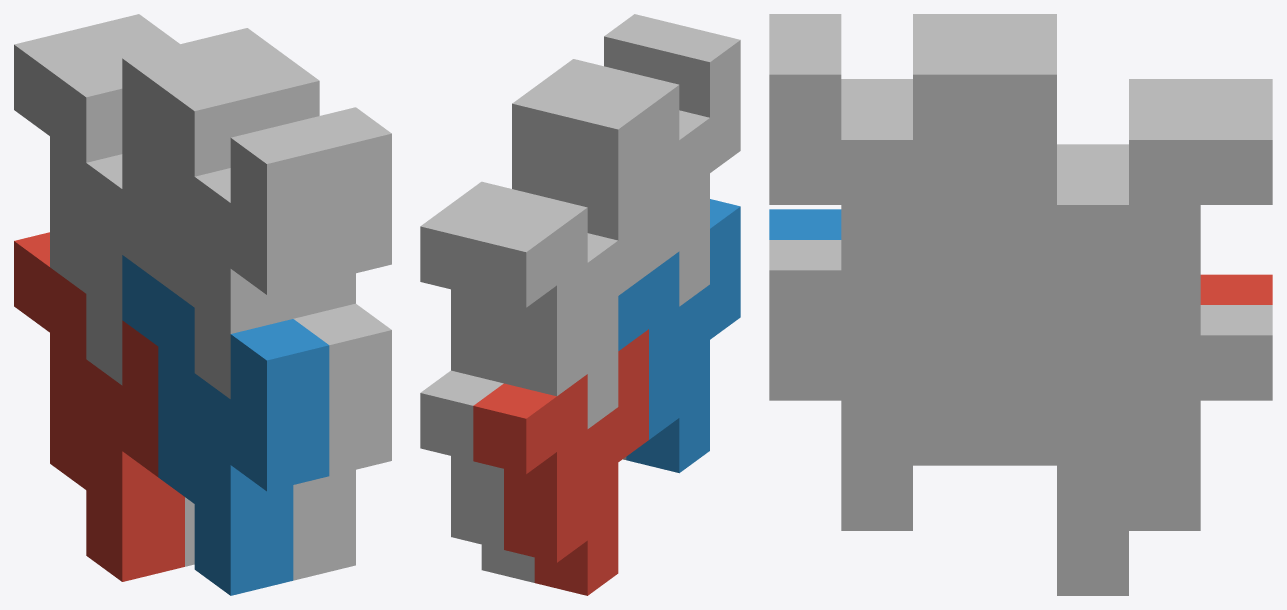
The model's file is tiling.obj.
3 views of the same model, side by side, from view 1: azimuth 30°, elevation 25°; view 2: azimuth 150°, elevation 25°; view 3: azimuth 270°, elevation 25° (orthographic). The views are drawn at different scales.
Parts seen in each view (by area): view 1: copy_1_domain_4, copy_1_domain_2, copy_1_domain_3, copy_1_domain_1, copy_1_domain_8, copy_1_domain_6, copy_1_domain_7, copy_1_domain_5; view 2: copy_1_domain_3, copy_1_domain_1, copy_1_domain_4, copy_1_domain_2, copy_1_domain_7, copy_1_domain_5, copy_1_domain_8; view 3: copy_1_domain_8, copy_1_domain_7, copy_1_domain_6, copy_1_domain_5, copy_1_domain_4, copy_1_domain_3, copy_1_domain_2, copy_1_domain_1.
Part boxes in pixels (x1,y1,x2,y2): copy_1_domain_4: (122,43,329,398); copy_1_domain_2: (122,255,329,595); copy_1_domain_3: (14,29,158,385); copy_1_domain_1: (14,232,184,581); copy_1_domain_8: (185,28,391,318); copy_1_domain_6: (293,303,391,580); copy_1_domain_7: (77,14,179,62); copy_1_domain_5: (185,497,194,566); copy_1_domain_3: (473,163,648,428); copy_1_domain_1: (473,329,648,595); copy_1_domain_4: (565,27,740,306); copy_1_domain_2: (618,199,740,473); copy_1_domain_7: (420,159,565,383); copy_1_domain_5: (420,370,534,582); copy_1_domain_8: (512,14,686,171); copy_1_domain_8: (769,44,1056,335); copy_1_domain_7: (985,109,1272,400); copy_1_domain_6: (769,240,1056,530); copy_1_domain_5: (985,305,1272,595); copy_1_domain_4: (769,14,1056,109); copy_1_domain_3: (1057,79,1272,174); copy_1_domain_2: (769,209,841,239); copy_1_domain_1: (1200,274,1272,304).
Size of the model in its own units: 2 by 8 by 7.
